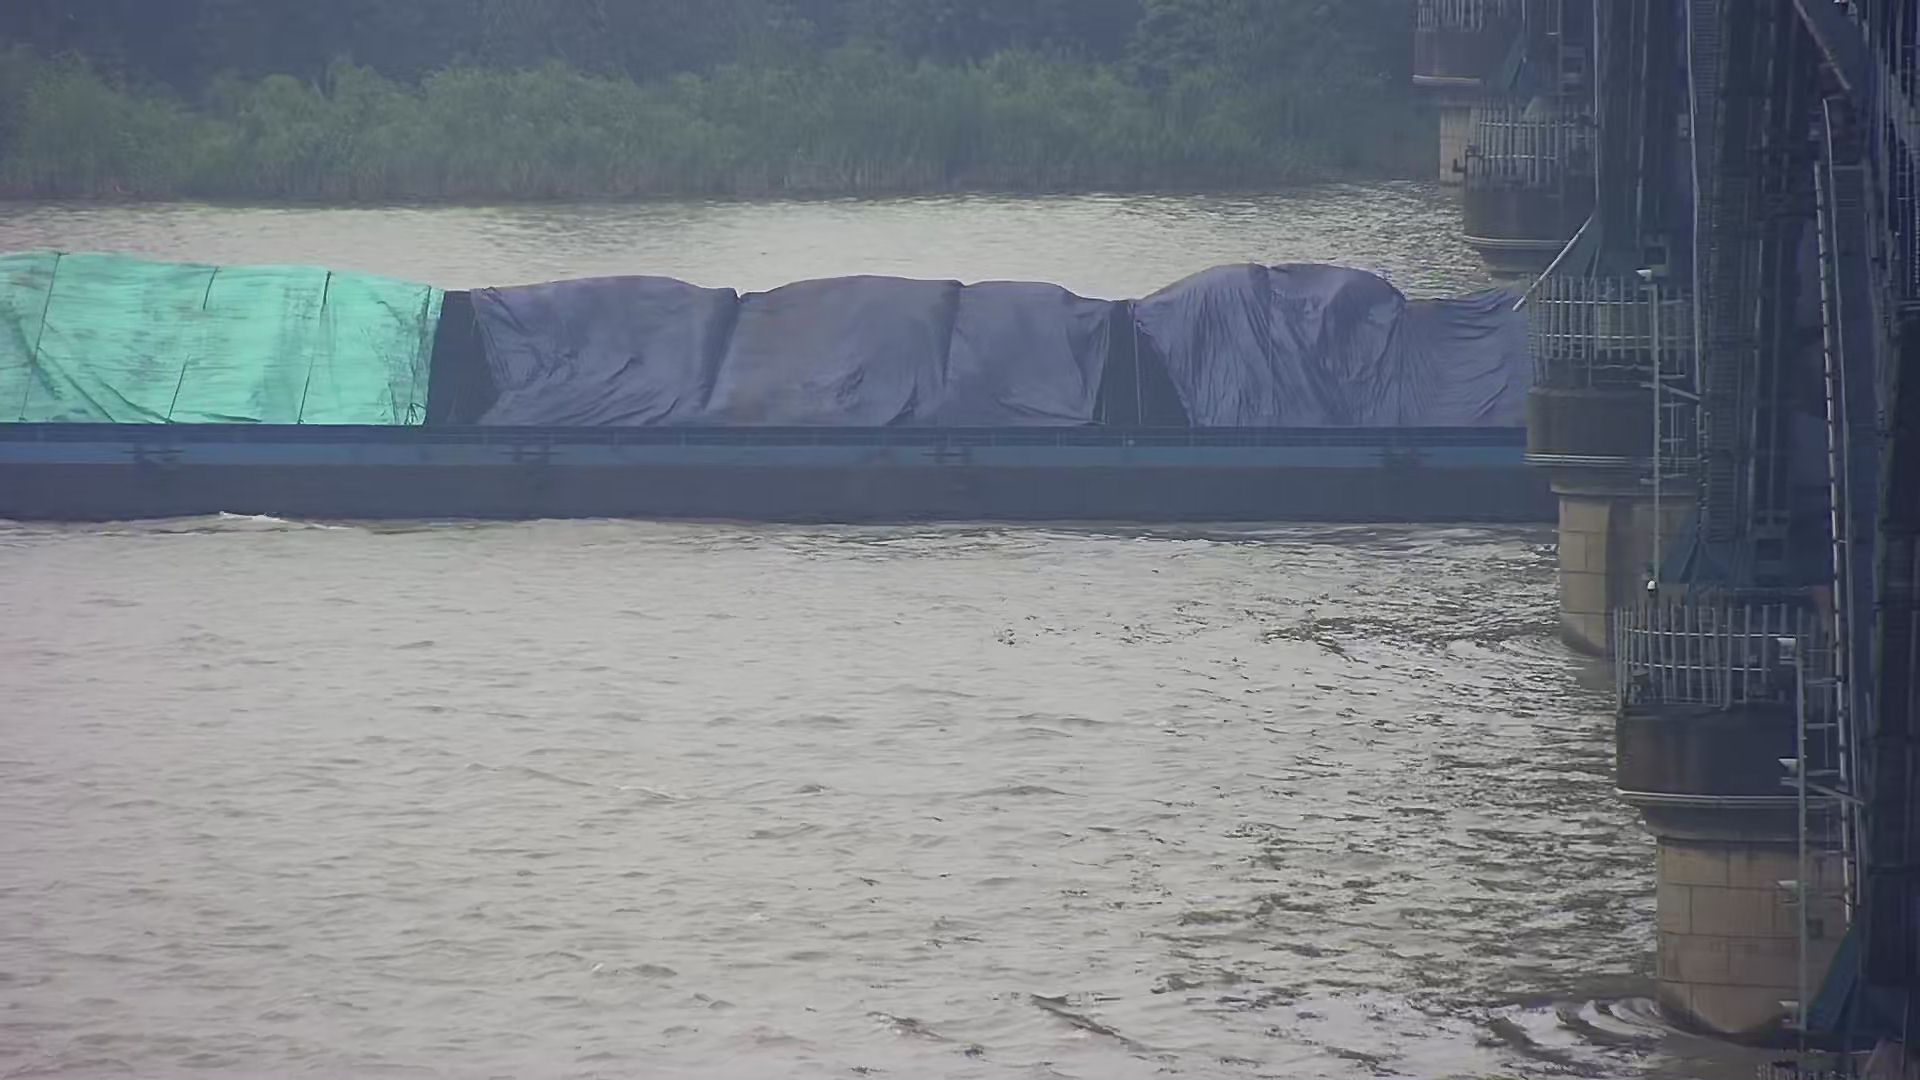bridge: (1394, 1, 1913, 1072)
ship: (1, 237, 1553, 531)
